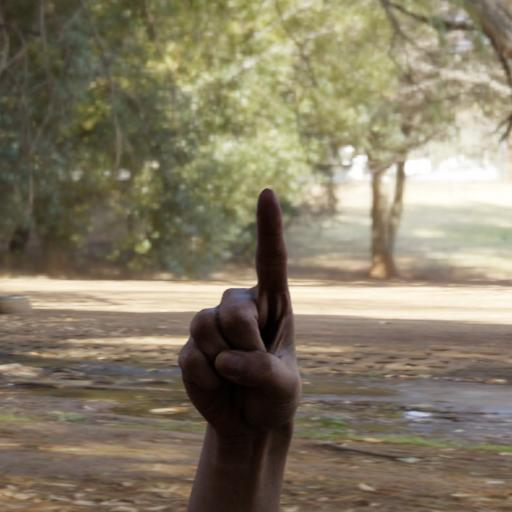Z: (150, 168, 327, 434)
